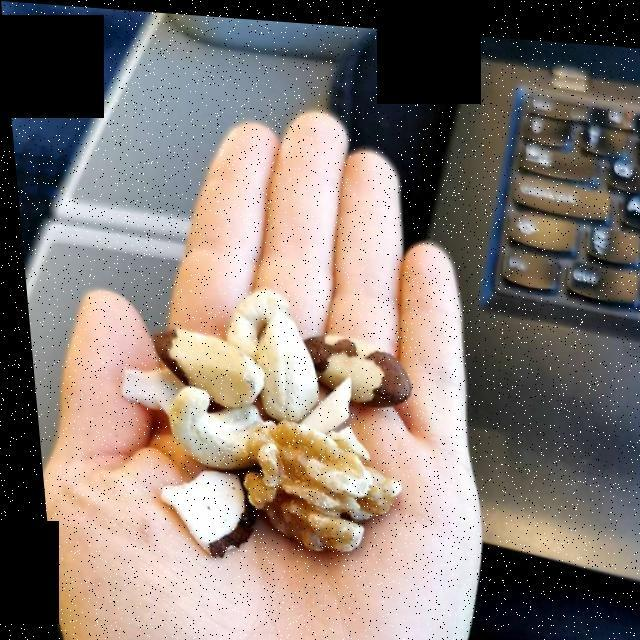mixed-nuts: (109, 285, 421, 559)
